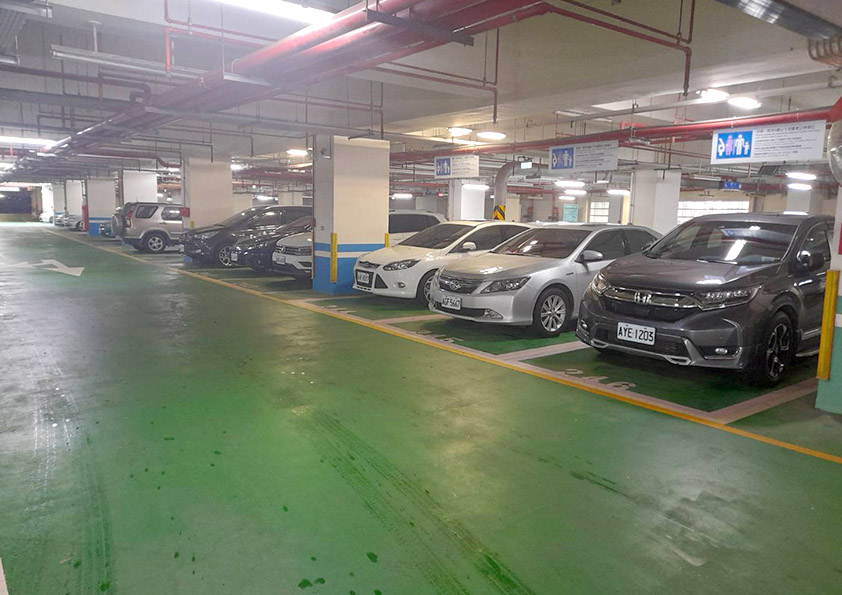car: (575, 212, 836, 375), (429, 223, 652, 339), (348, 220, 502, 303), (111, 196, 179, 256), (180, 216, 233, 267), (272, 222, 310, 288), (387, 203, 445, 242), (234, 222, 273, 275), (66, 209, 84, 238)
